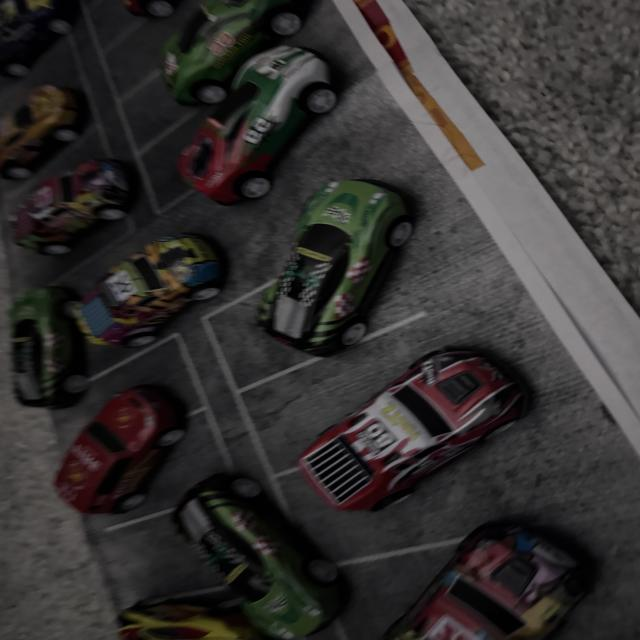Car: (239, 338, 547, 529), (0, 355, 202, 555), (242, 162, 442, 352), (362, 512, 602, 640), (171, 70, 345, 212), (130, 0, 312, 124), (105, 236, 232, 362), (205, 491, 310, 640), (0, 275, 110, 404), (0, 165, 134, 269), (5, 69, 91, 157)
